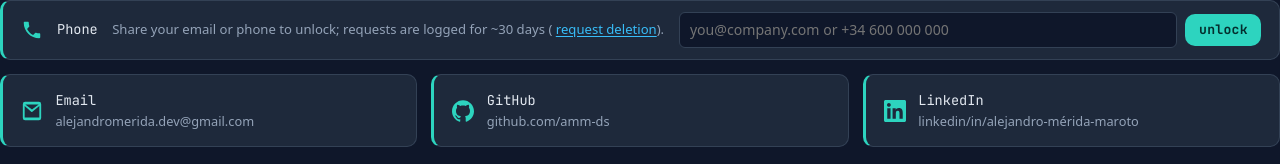
Test case: ChannelCards › unlocks on a valid email: posts to the API and reveals the tel link from the response
This screenshot has width=1280, height=164.
In the field named "email or phone": (928, 30) [678,12,1177,48], type "ada@example.com"
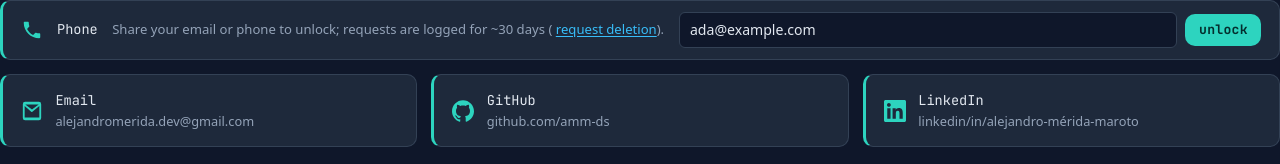
Click the button "unlock": (1223, 30) [1185,14,1261,46]
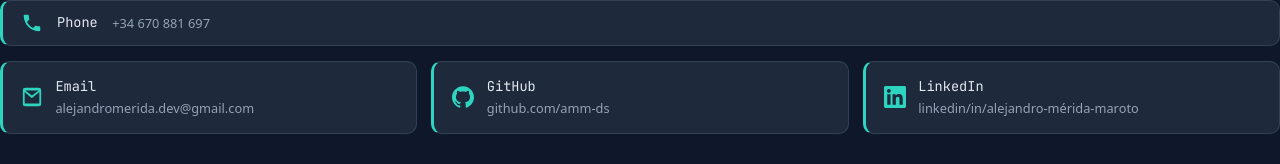
expect the field labelled "email or phone" is gone: met
expect the element with class "channel-card--locked" is gone: met
